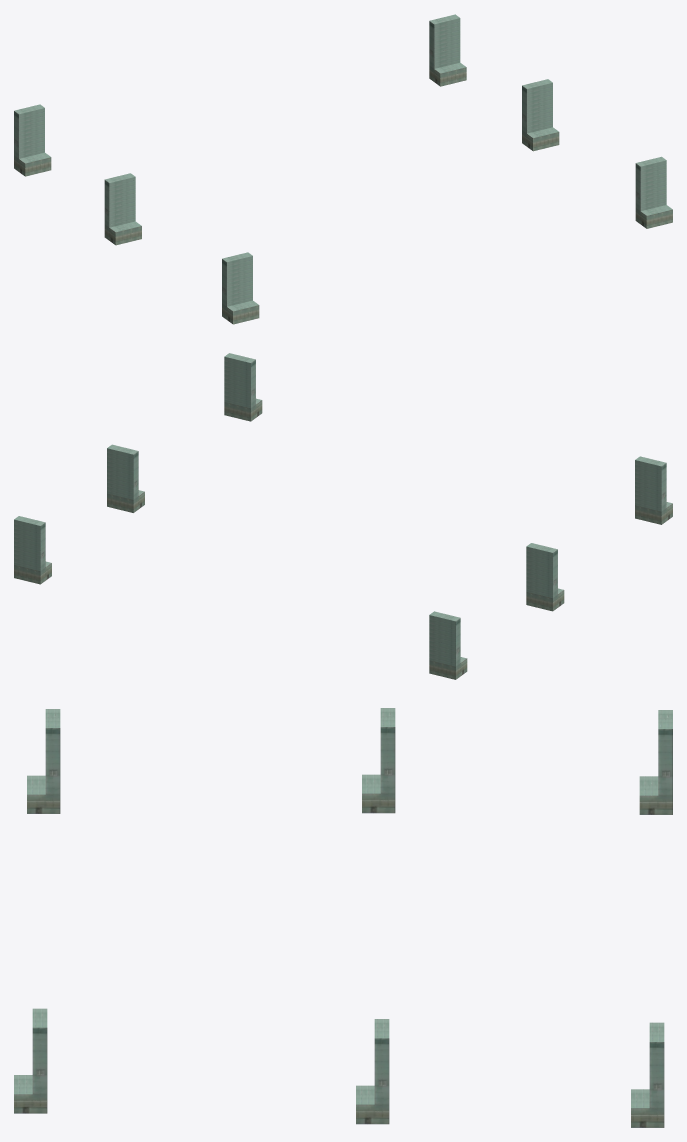
Rendered from citizen_center_columns_1b723d6e.glb.
3 views of the same model, one above another, from view 1: azimuth 30°, elevation 25°; view 2: azimuth 150°, elevation 25°; view 3: azimuth 270°, elevation 25° (orthographic). The views are drawn at different scales.
Parts seen in each view (by area): view 1: citizen_center_columns_1b723d6e; view 2: citizen_center_columns_1b723d6e; view 3: citizen_center_columns_1b723d6e.
Boxes of the visible parts, x1=… form: citizen_center_columns_1b723d6e: x1=14, y1=14, x2=672, y2=324; citizen_center_columns_1b723d6e: x1=14, y1=353, x2=672, y2=679; citizen_center_columns_1b723d6e: x1=14, y1=708, x2=672, y2=1127.
Size of the model in its own units: 177 by 26.16 by 154.
1 material, 1 textured.
